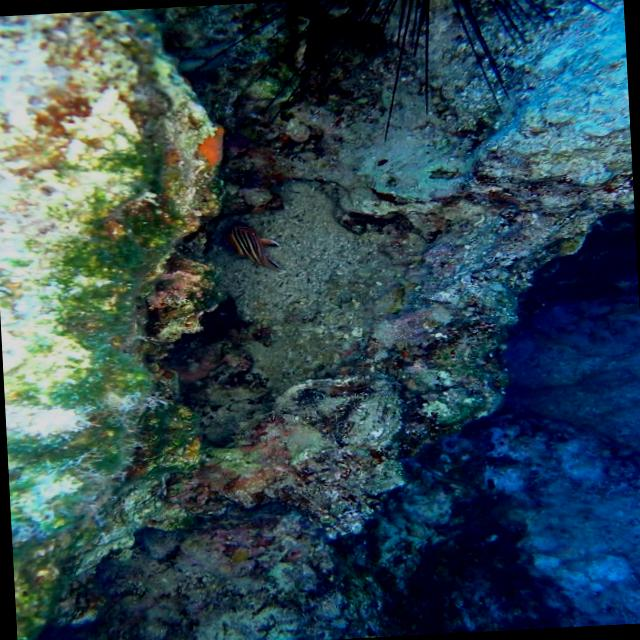Asker Baligi: (212, 213, 293, 277)
